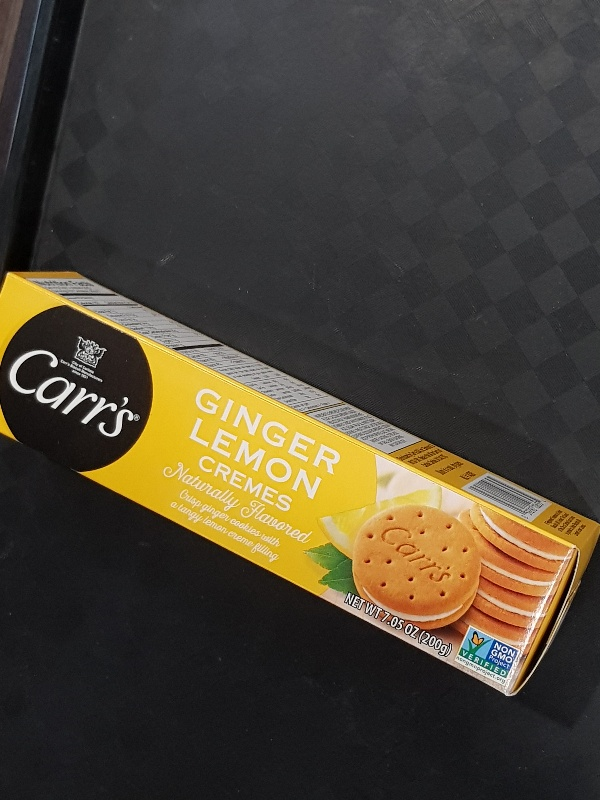Carr's Ginger Lemon Cremes: (1, 264, 600, 697)
